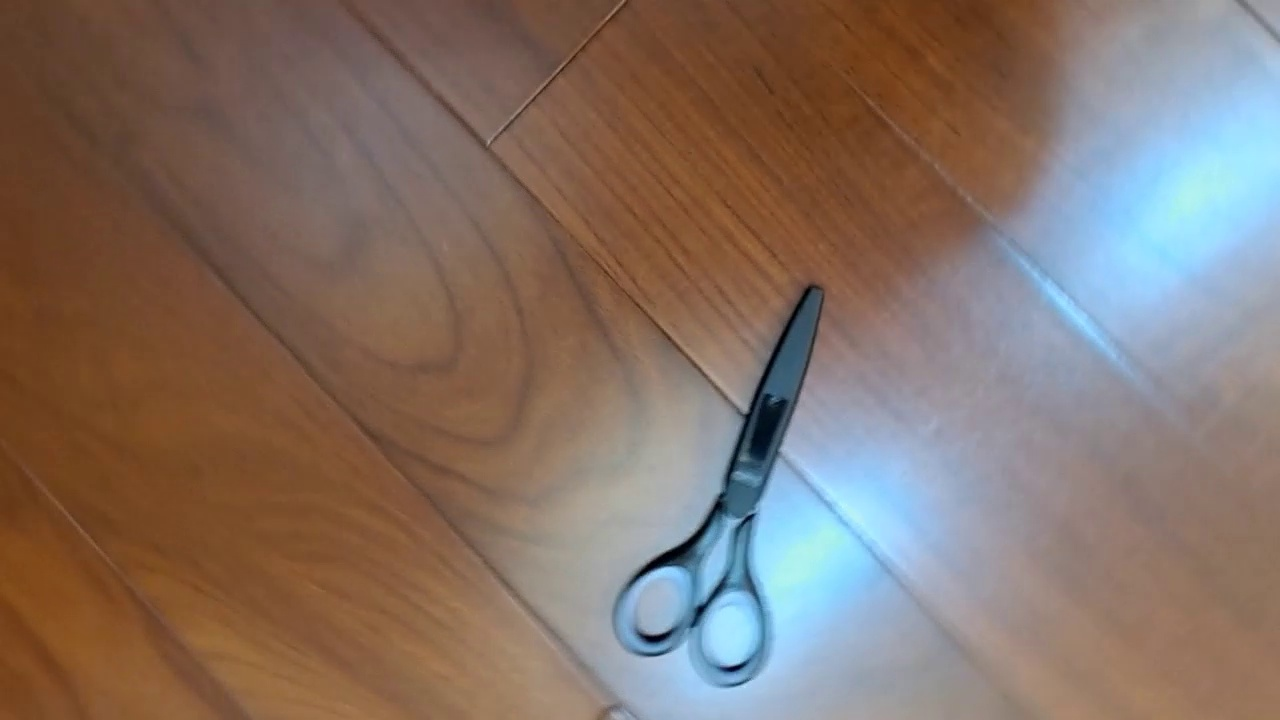scissors: (611, 280, 827, 688)
